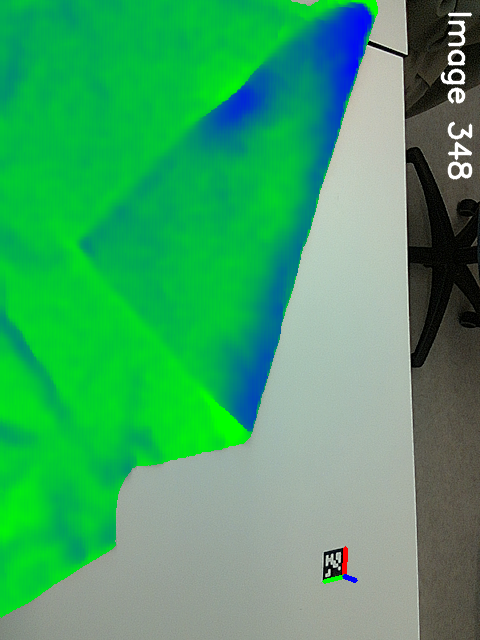V: (67, 216, 129, 271)
